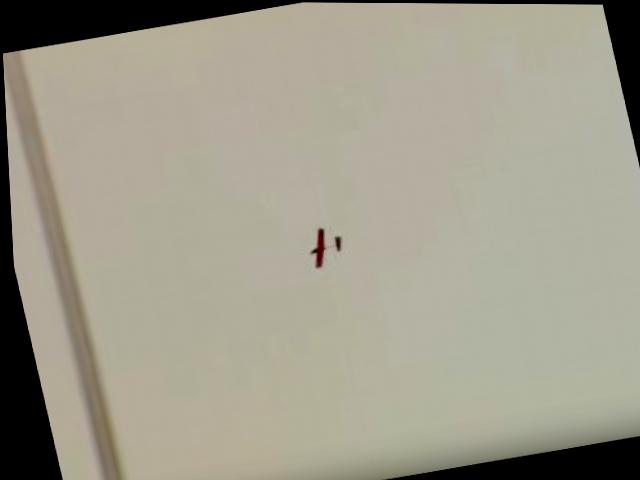uav: (299, 221, 344, 268)
